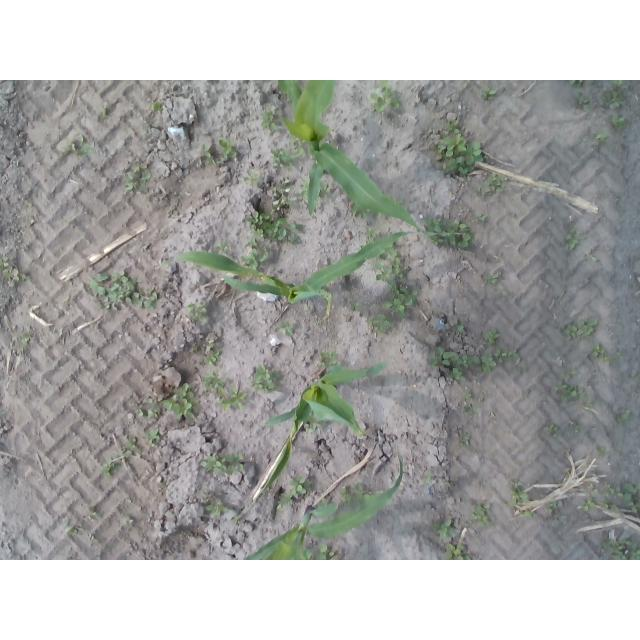Maize: (279, 80, 441, 237), (158, 231, 415, 321), (245, 454, 403, 560), (265, 363, 387, 437)
Weeds: (425, 345, 519, 383), (88, 271, 160, 314), (431, 120, 486, 176), (374, 252, 418, 317), (130, 381, 198, 421), (244, 212, 304, 245), (425, 214, 471, 250), (104, 437, 141, 475), (200, 451, 244, 482), (603, 480, 640, 513), (278, 473, 310, 507), (237, 236, 269, 268), (124, 161, 153, 196), (251, 362, 282, 394), (369, 81, 400, 112), (270, 141, 304, 168), (271, 178, 297, 213), (602, 538, 640, 560), (552, 380, 585, 405), (202, 492, 230, 521), (564, 317, 599, 339), (215, 388, 247, 412), (600, 81, 628, 108), (63, 135, 96, 156), (470, 500, 494, 528), (365, 314, 391, 339), (1, 255, 20, 289), (203, 369, 226, 395), (338, 483, 371, 501), (430, 520, 458, 541), (507, 480, 529, 505), (187, 300, 209, 324), (444, 542, 473, 560), (593, 342, 612, 367), (306, 544, 335, 560), (218, 138, 238, 161), (484, 171, 504, 193), (566, 227, 586, 249), (260, 110, 280, 132), (204, 340, 220, 366), (274, 322, 298, 339), (317, 350, 338, 369), (198, 144, 216, 165), (611, 112, 629, 132), (243, 169, 264, 186), (457, 431, 475, 449), (421, 468, 436, 489), (18, 332, 31, 354), (463, 391, 475, 414), (481, 87, 498, 103), (576, 92, 592, 109), (343, 297, 362, 311), (484, 273, 501, 288), (543, 502, 562, 515), (592, 129, 608, 144), (100, 101, 112, 121), (484, 329, 498, 346), (364, 224, 380, 238), (87, 505, 101, 520), (543, 424, 560, 436), (350, 209, 370, 219), (616, 409, 630, 423), (63, 521, 77, 535), (579, 498, 594, 511), (146, 428, 158, 444), (583, 249, 597, 262), (151, 99, 164, 113), (318, 181, 328, 198), (566, 365, 578, 379), (300, 180, 308, 200), (218, 240, 228, 254), (596, 447, 608, 458), (567, 420, 578, 432), (454, 320, 464, 333), (568, 80, 588, 86), (630, 369, 640, 379), (123, 516, 133, 525), (478, 214, 487, 223), (21, 274, 31, 282), (315, 321, 326, 328), (613, 351, 623, 358), (443, 482, 453, 489), (190, 343, 198, 351), (584, 402, 593, 409), (524, 509, 531, 515), (89, 535, 95, 541)
